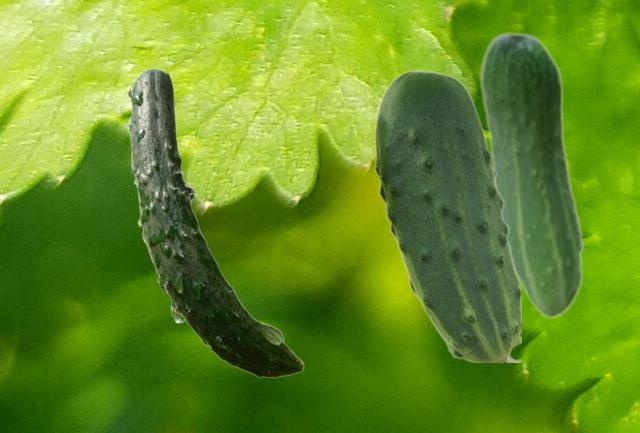cucumber: (126, 68, 303, 377), (374, 69, 520, 361), (479, 30, 584, 318)
